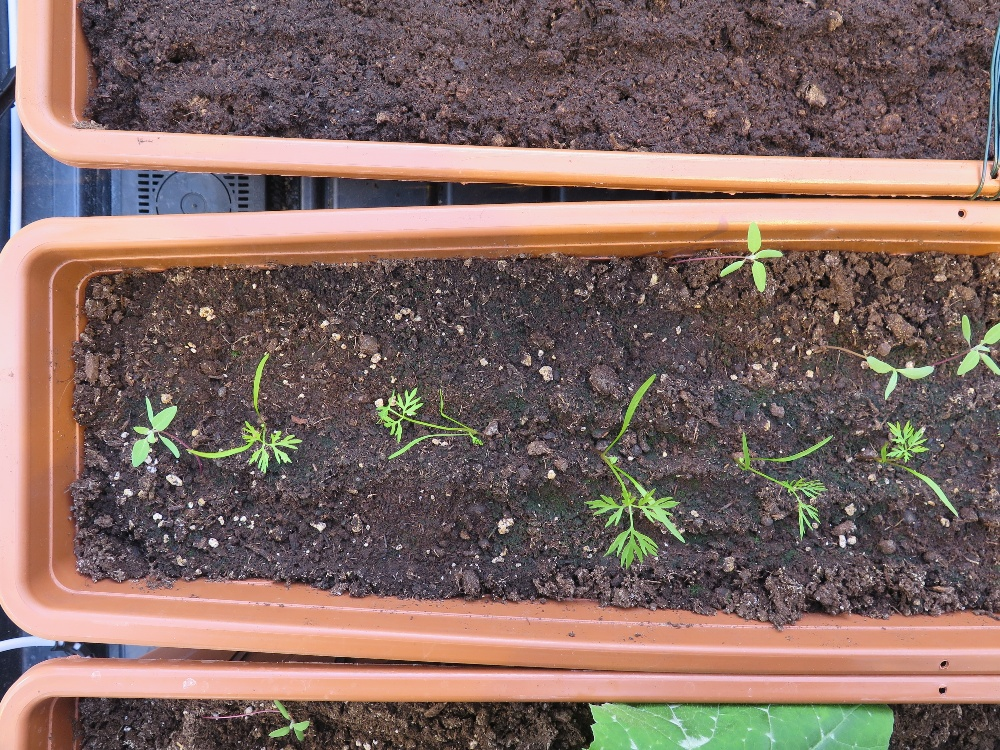crop: (581, 371, 688, 569), (184, 347, 301, 476), (734, 429, 837, 544), (373, 383, 486, 460), (877, 418, 960, 518)
weed: (719, 220, 783, 295), (129, 391, 179, 468), (865, 355, 935, 403), (266, 697, 311, 742)
